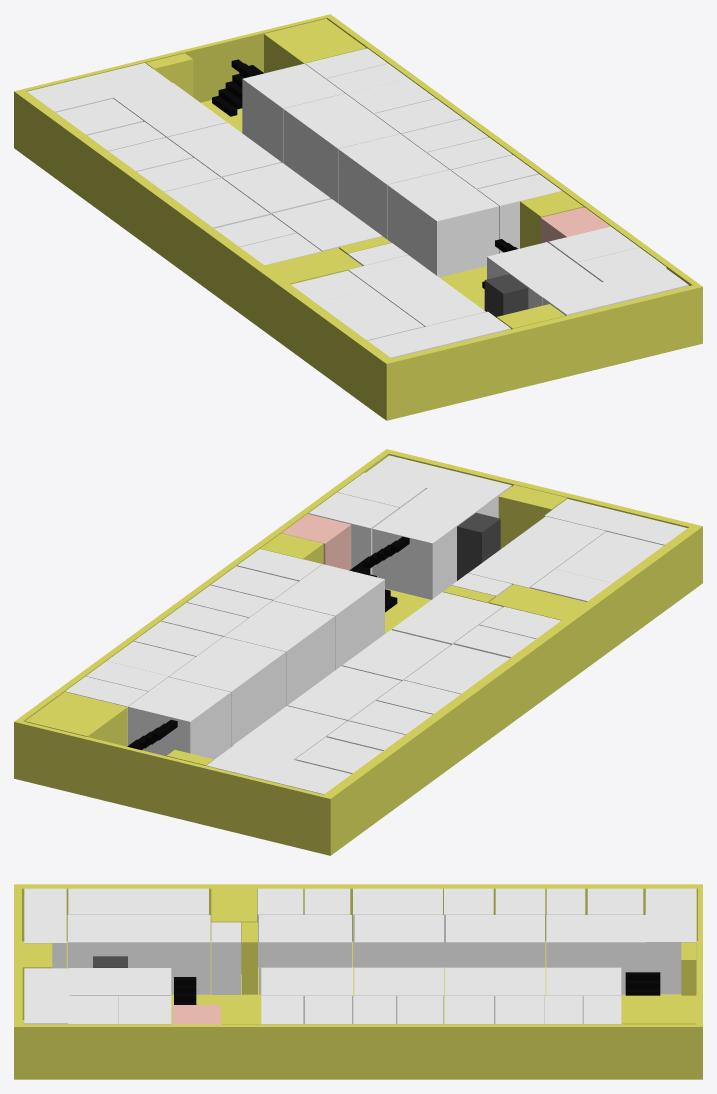
3 renders of one model, top to bottom at view 1: azimuth 30°, elevation 25°; view 2: azimuth 150°, elevation 25°; view 3: azimuth 270°, elevation 25°, orthographic. The views are drawn at different scales.
Visible parts, largest first — view 1: object, 演習室8, 社会学調査実習室6, 演習室9, 演習室11, 地理学調査実習室, 演習室7, 社会学調査実習室4, 研究室9, 社会学調査実習室5, 研究室10, 演習室1 (+27 smaller); view 2: object, 演習室7, 社会学調査実習室6, 演習室11, 演習室8, 演習室9, 地理学調査実習室, 研究室9, 社会学調査実習室4, 社会学調査実習室5, 研究室10, 演習室1 (+27 smaller); view 3: object, 地理学調査実習室, 社会学調査実習室5, 社会学調査実習室4, 演習室1, 演習室2, 研究室9, 社会学調査実習室6, 演習室7, 演習室8, 研究室24, 演習室9 (+28 smaller).
Boxes of the visible parts, bbox=[...] form: object: bbox=[14, 14, 702, 420]; 演習室8: bbox=[387, 169, 499, 277]; 社会学調査実習室6: bbox=[283, 93, 399, 203]; 演習室9: bbox=[338, 134, 448, 239]; 演習室11: bbox=[242, 63, 344, 162]; 地理学調査実習室: bbox=[348, 255, 485, 326]; 演習室7: bbox=[487, 242, 601, 308]; 社会学調査実習室4: bbox=[167, 122, 281, 177]; 研究室9: bbox=[27, 63, 171, 112]; 社会学調査実習室5: bbox=[113, 83, 226, 137]; 研究室10: bbox=[542, 267, 688, 315]; 演習室1: bbox=[271, 199, 382, 251]; object: bbox=[14, 449, 702, 855]; 演習室7: bbox=[372, 488, 487, 599]; 社会学調査実習室6: bbox=[169, 637, 285, 746]; 演習室11: bbox=[128, 677, 230, 759]; 演習室8: bbox=[273, 564, 384, 670]; 演習室9: bbox=[224, 601, 334, 705]; 地理学調査実習室: bbox=[468, 516, 605, 588]; 研究室9: bbox=[206, 745, 351, 794]; 社会学調査実習室4: bbox=[287, 666, 401, 721]; 社会学調査実習室5: bbox=[233, 706, 346, 760]; 研究室10: bbox=[365, 455, 511, 517]; 演習室1: bbox=[392, 592, 502, 644]; object: bbox=[14, 884, 702, 1079]; 地理学調査実習室: bbox=[67, 915, 210, 994]; 社会学調査実習室5: bbox=[546, 915, 645, 994]; 社会学調査実習室4: bbox=[446, 915, 544, 967]; 演習室1: bbox=[259, 915, 351, 994]; 演習室2: bbox=[354, 915, 443, 967]; 研究室9: bbox=[645, 888, 696, 994]; 社会学調査実習室6: bbox=[444, 967, 545, 1024]; 演習室7: bbox=[69, 968, 171, 1023]; 演習室8: bbox=[261, 967, 353, 1024]; 研究室24: bbox=[24, 888, 66, 968]; 演習室9: bbox=[354, 967, 443, 1024].
Bounding box in the file's own units: 1.02 × 0.1818 × 2.09.
